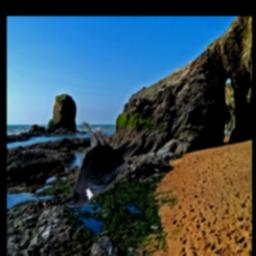Crow: (66, 120, 141, 207)
